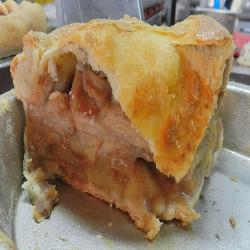apple_pie: (10, 18, 234, 236)
